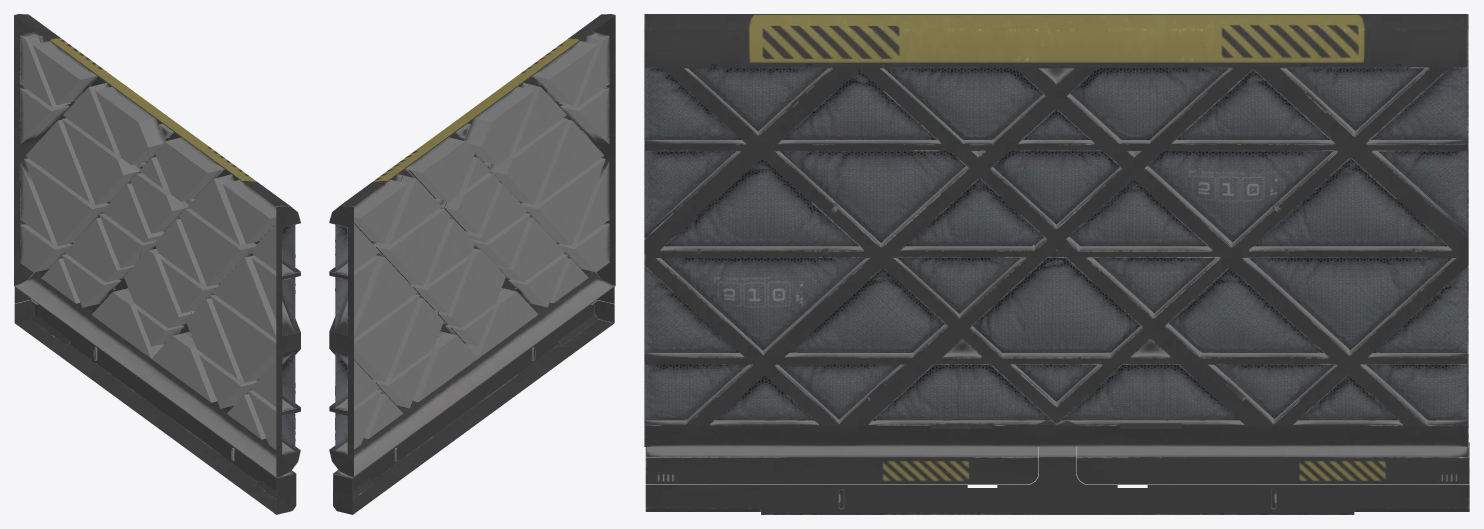
File: wall30-opt.glb
3 renders of one model, left to right at view 1: azimuth 30°, elevation 25°; view 2: azimuth 150°, elevation 25°; view 3: azimuth 270°, elevation 25°, orthographic. The views are drawn at different scales.
Visible parts, largest first — view 1: Cube.030; view 2: Cube.030; view 3: Cube.030.
Boxes of the visible parts, bbox=[...] form: Cube.030: bbox=[14, 14, 300, 514]; Cube.030: bbox=[329, 14, 615, 514]; Cube.030: bbox=[644, 14, 1469, 514].
Bounding box in the file's own units: 0.2955 × 2.94 × 4.54.
Materials: 1 (1 with a texture image).
